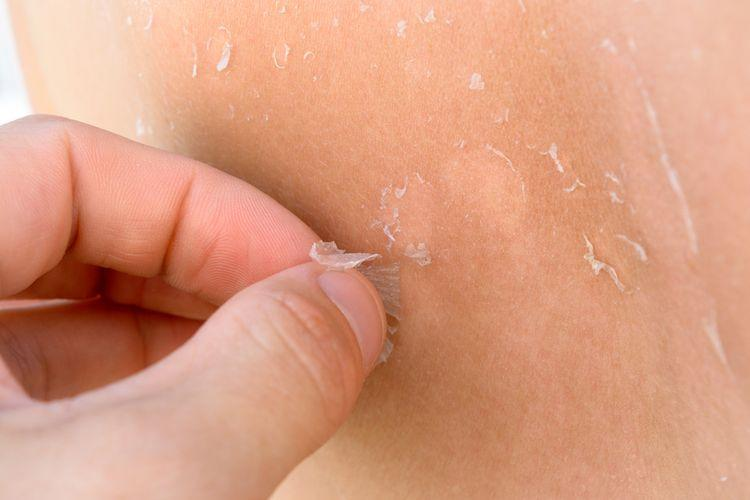Dry-Skin: (306, 207, 432, 320), (654, 89, 705, 249), (186, 24, 302, 85), (572, 214, 655, 285), (539, 129, 607, 202), (699, 306, 750, 375)
